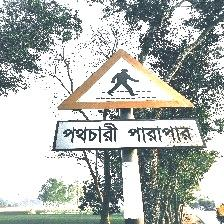Pedestrian-crossing: (54, 49, 206, 149)
